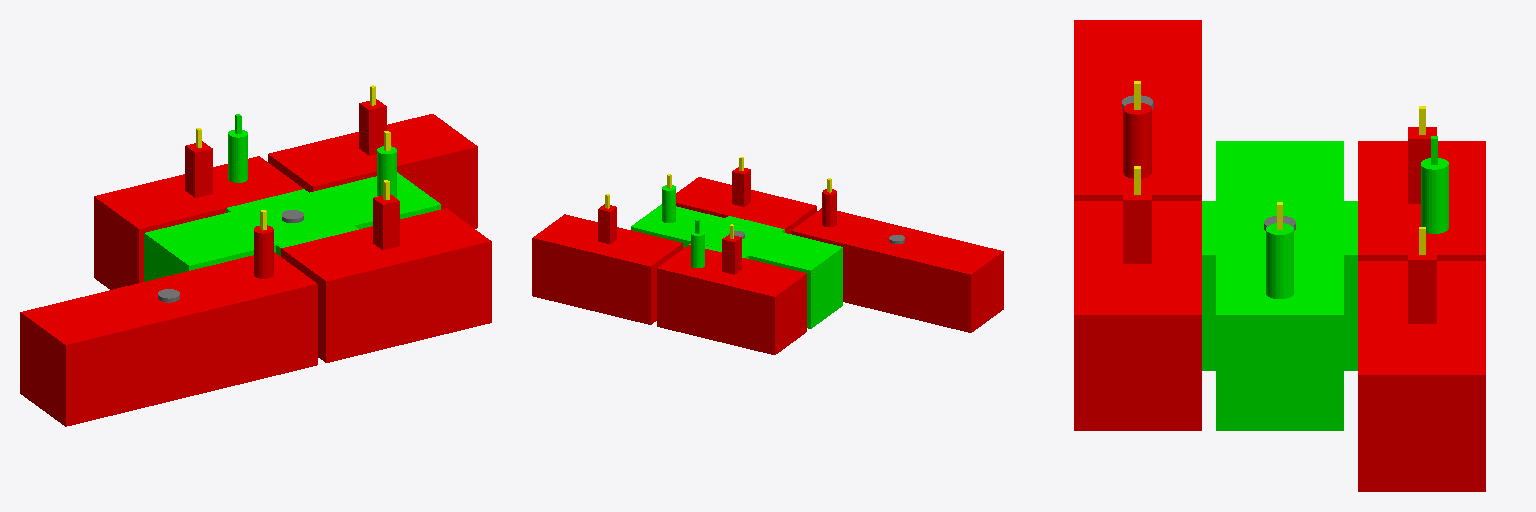
The robot description file, URDF, robot "grid_world0":
<?xml version="1.0"?>
<!-- created with Phobos 1.0.1 "Capricious Choutengan" -->
  <robot name="grid_world0">

    <link name="base_link">
    </link>

    <link name="goal">
      <visual name="visual_box_0_link_0.001">
        <origin xyz="0 0 0" rpy="0 0 0"/>
        <geometry>
          <box size="2.8961 0.8981 0.8981"/>
        </geometry>
        <material name="green_translucent"/>
      </visual>
    </link>

    <link name="link_0_joint_0">
      <visual name="visual_box_0_link_0">
        <origin xyz="0 0 0" rpy="0 0 0"/>
        <geometry>
          <box size="2.899 0.899 0.899"/>
        </geometry>
        <material name="green"/>
      </visual>
      <collision name="collision_box_0_link_0">
        <origin xyz="0 0 0" rpy="0 0 0"/>
        <geometry>
          <box size="2.899 0.899 0.899"/>
        </geometry>
      </collision>
    </link>

    <link name="link_1_joint_0">
      <visual name="visual_box_4_link_1">
        <origin xyz="0 0 0" rpy="0 0 0"/>
        <geometry>
          <box size="1.899 0.899 0.899"/>
        </geometry>
        <material name="red"/>
      </visual>
      <collision name="collision_box_4_link_1">
        <origin xyz="0 0 0" rpy="0 0 0"/>
        <geometry>
          <box size="1.899 0.899 0.899"/>
        </geometry>
      </collision>
    </link>

    <link name="link_2_joint_0">
      <visual name="visual_box_7_link_2">
        <origin xyz="0 0 0" rpy="0 0 0"/>
        <geometry>
          <box size="2.899 0.899 0.899"/>
        </geometry>
        <material name="red"/>
      </visual>
      <collision name="collision_box_7_link_2">
        <origin xyz="0 0 0" rpy="0 0 0"/>
        <geometry>
          <box size="2.899 0.899 0.899"/>
        </geometry>
      </collision>
    </link>

    <link name="link_3_joint_0">
      <visual name="visual_box_11_link_3">
        <origin xyz="0 0 0" rpy="0 0 0"/>
        <geometry>
          <box size="1.899 0.899 0.899"/>
        </geometry>
        <material name="red"/>
      </visual>
      <collision name="collision_box_11_link_3">
        <origin xyz="0 0 0" rpy="0 0 0"/>
        <geometry>
          <box size="1.899 0.899 0.899"/>
        </geometry>
      </collision>
    </link>

    <link name="link_4_joint_0">
      <visual name="visual_box_14_link_4">
        <origin xyz="0 0 0" rpy="0 0 0"/>
        <geometry>
          <box size="1.899 0.899 0.899"/>
        </geometry>
        <material name="red"/>
      </visual>
      <collision name="collision_box_14_link_4">
        <origin xyz="0 0 0" rpy="0 0 0"/>
        <geometry>
          <box size="1.899 0.899 0.899"/>
        </geometry>
      </collision>
    </link>

    <link name="link_fixed_10_handle_knob">
      <visual name="visual_box_fixed_10_handle_knob">
        <origin xyz="0 0 0" rpy="0 0 0"/>
        <geometry>
          <box size="0.049 0.049 0.199"/>
        </geometry>
        <material name="yellow"/>
      </visual>
      <collision name="collision_box_fixed_10_handle_knob">
        <origin xyz="0 0 0" rpy="0 0 0"/>
        <geometry>
          <box size="0.049 0.049 0.199"/>
        </geometry>
      </collision>
    </link>

    <link name="link_fixed_12_handle_shaft">
      <visual name="visual_box_fixed_12_handle_shaft">
        <origin xyz="0 0 0" rpy="0 0 0"/>
        <geometry>
          <box size="0.199 0.199 0.499"/>
        </geometry>
        <material name="red"/>
      </visual>
      <collision name="collision_box_fixed_12_handle_shaft">
        <origin xyz="0 0 0" rpy="0 0 0"/>
        <geometry>
          <box size="0.199 0.199 0.499"/>
        </geometry>
      </collision>
    </link>

    <link name="link_fixed_13_handle_knob">
      <visual name="visual_box_fixed_13_handle_knob">
        <origin xyz="0 0 0" rpy="0 0 0"/>
        <geometry>
          <box size="0.049 0.049 0.199"/>
        </geometry>
        <material name="yellow"/>
      </visual>
      <collision name="collision_box_fixed_13_handle_knob">
        <origin xyz="0 0 0" rpy="0 0 0"/>
        <geometry>
          <box size="0.049 0.049 0.199"/>
        </geometry>
      </collision>
    </link>

    <link name="link_fixed_15_handle_shaft">
      <visual name="visual_box_fixed_15_handle_shaft">
        <origin xyz="0 0 0" rpy="0 0 0"/>
        <geometry>
          <box size="0.199 0.199 0.499"/>
        </geometry>
        <material name="red"/>
      </visual>
      <collision name="collision_box_fixed_15_handle_shaft">
        <origin xyz="0 0 0" rpy="0 0 0"/>
        <geometry>
          <box size="0.199 0.199 0.499"/>
        </geometry>
      </collision>
    </link>

    <link name="link_fixed_16_handle_knob">
      <visual name="visual_box_fixed_16_handle_knob">
        <origin xyz="0 0 0" rpy="0 0 0"/>
        <geometry>
          <box size="0.049 0.049 0.199"/>
        </geometry>
        <material name="yellow"/>
      </visual>
      <collision name="collision_box_fixed_16_handle_knob">
        <origin xyz="0 0 0" rpy="0 0 0"/>
        <geometry>
          <box size="0.049 0.049 0.199"/>
        </geometry>
      </collision>
    </link>

    <link name="link_fixed_1_hinge">
      <visual name="visual_cylinder_fixed_1_hinge">
        <origin xyz="0 0 0" rpy="0 0 0"/>
        <geometry>
          <cylinder radius="0.112" length="0.989"/>
        </geometry>
        <material name="gray"/>
      </visual>
    </link>

    <link name="link_fixed_1_hinge.001">
      <visual name="visual_cylinder_fixed_1_hinge.001">
        <origin xyz="0 0 0" rpy="0 0 0"/>
        <geometry>
          <cylinder radius="0.11189" length="0.98801"/>
        </geometry>
        <material name="green_translucent"/>
      </visual>
    </link>

    <link name="link_fixed_2_handle_shaft">
      <visual name="visual_cylinder_fixed_2_handle_shaft">
        <origin xyz="0 0 0" rpy="0 0 0"/>
        <geometry>
          <cylinder radius="0.0995" length="0.499"/>
        </geometry>
        <material name="green"/>
      </visual>
      <collision name="collision_cylinder_fixed_2_handle_shaft">
        <origin xyz="0 0 0" rpy="0 0 0"/>
        <geometry>
          <cylinder radius="0.0995" length="0.499"/>
        </geometry>
      </collision>
    </link>

    <link name="link_fixed_2_handle_shaft.001">
      <visual name="visual_cylinder_fixed_2_handle_shaft.001">
        <origin xyz="0 0 0" rpy="0 0 0"/>
        <geometry>
          <cylinder radius="0.0994" length="0.4985"/>
        </geometry>
        <material name="green_translucent"/>
      </visual>
    </link>

    <link name="link_fixed_3_handle_knob">
      <visual name="visual_box_fixed_3_handle_knob">
        <origin xyz="0 0 0" rpy="0 0 0"/>
        <geometry>
          <box size="0.049 0.049 0.199"/>
        </geometry>
        <material name="yellow"/>
      </visual>
      <collision name="collision_box_fixed_3_handle_knob">
        <origin xyz="0 0 0" rpy="0 0 0"/>
        <geometry>
          <box size="0.049 0.049 0.199"/>
        </geometry>
      </collision>
    </link>

    <link name="link_fixed_3_handle_knob.001">
      <visual name="visual_box_fixed_3_handle_knob.001">
        <origin xyz="0 0 0" rpy="0 0 0"/>
        <geometry>
          <box size="0.04895 0.04895 0.1988"/>
        </geometry>
        <material name="green_translucent"/>
      </visual>
    </link>

    <link name="link_fixed_5_handle_shaft">
      <visual name="visual_box_fixed_5_handle_shaft">
        <origin xyz="0 0 0" rpy="0 0 0"/>
        <geometry>
          <box size="0.199 0.199 0.499"/>
        </geometry>
        <material name="red"/>
      </visual>
      <collision name="collision_box_fixed_5_handle_shaft">
        <origin xyz="0 0 0" rpy="0 0 0"/>
        <geometry>
          <box size="0.199 0.199 0.499"/>
        </geometry>
      </collision>
    </link>

    <link name="link_fixed_6_handle_knob">
      <visual name="visual_box_fixed_6_handle_knob">
        <origin xyz="0 0 0" rpy="0 0 0"/>
        <geometry>
          <box size="0.049 0.049 0.199"/>
        </geometry>
        <material name="yellow"/>
      </visual>
      <collision name="collision_box_fixed_6_handle_knob">
        <origin xyz="0 0 0" rpy="0 0 0"/>
        <geometry>
          <box size="0.049 0.049 0.199"/>
        </geometry>
      </collision>
    </link>

    <link name="link_fixed_8_hinge">
      <visual name="visual_cylinder_fixed_8_hinge">
        <origin xyz="0 0 0" rpy="0 0 0"/>
        <geometry>
          <cylinder radius="0.112" length="0.989"/>
        </geometry>
        <material name="gray"/>
      </visual>
    </link>

    <link name="link_fixed_9_handle_shaft">
      <visual name="visual_cylinder_fixed_9_handle_shaft">
        <origin xyz="0 0 0" rpy="0 0 0"/>
        <geometry>
          <cylinder radius="0.0995" length="0.499"/>
        </geometry>
        <material name="red"/>
      </visual>
      <collision name="collision_cylinder_fixed_9_handle_shaft">
        <origin xyz="0 0 0" rpy="0 0 0"/>
        <geometry>
          <cylinder radius="0.0995" length="0.499"/>
        </geometry>
      </collision>
    </link>

    <joint name="goal" type="fixed">
      <origin xyz="-0.5 0.5 0.45" rpy="0 0 1.5708"/>
      <parent link="base_link"/>
      <child link="goal"/>
      <limit effort="0" velocity="0"/>
    </joint>

    <joint name="link_0_joint_0" type="revolute">
      <origin xyz="-0.5 0.5 0.45" rpy="0 0 0"/>
      <parent link="base_link"/>
      <child link="link_0_joint_0"/>
      <axis xyz="0 0 1.0"/>
      <limit lower="0" upper="1.5708" effort="0" velocity="0"/>
    </joint>

    <joint name="link_1_joint_0" type="prismatic">
      <origin xyz="-1.0 1.5 0.45" rpy="0 0 3.14159"/>
      <parent link="base_link"/>
      <child link="link_1_joint_0"/>
      <axis xyz="1.0 0 0"/>
      <limit lower="0" upper="1.0" effort="0" velocity="0"/>
    </joint>

    <joint name="link_2_joint_0" type="revolute">
      <origin xyz="-2.5 -0.5 0.45" rpy="0 0 0"/>
      <parent link="base_link"/>
      <child link="link_2_joint_0"/>
      <axis xyz="0 0 1.0"/>
      <limit lower="-1.5708" upper="0" effort="0" velocity="0"/>
    </joint>

    <joint name="link_3_joint_0" type="prismatic">
      <origin xyz="1.0 1.5 0.45" rpy="0 0 0"/>
      <parent link="base_link"/>
      <child link="link_3_joint_0"/>
      <axis xyz="1.0 0 0"/>
      <limit lower="0" upper="1.0" effort="0" velocity="0"/>
    </joint>

    <joint name="link_4_joint_0" type="prismatic">
      <origin xyz="0 -0.5 0.45" rpy="0 0 0"/>
      <parent link="base_link"/>
      <child link="link_4_joint_0"/>
      <axis xyz="1.0 0 0"/>
      <limit lower="0" upper="1.0" effort="0" velocity="0"/>
    </joint>

    <joint name="link_fixed_10_handle_knob" type="fixed">
      <origin xyz="0 0 0.35" rpy="0 0 0"/>
      <parent link="link_fixed_9_handle_shaft"/>
      <child link="link_fixed_10_handle_knob"/>
    </joint>

    <joint name="link_fixed_12_handle_shaft" type="fixed">
      <origin xyz="0 0 0.7" rpy="0 0 0"/>
      <parent link="link_3_joint_0"/>
      <child link="link_fixed_12_handle_shaft"/>
    </joint>

    <joint name="link_fixed_13_handle_knob" type="fixed">
      <origin xyz="0 0 0.35" rpy="0 0 0"/>
      <parent link="link_fixed_12_handle_shaft"/>
      <child link="link_fixed_13_handle_knob"/>
    </joint>

    <joint name="link_fixed_15_handle_shaft" type="fixed">
      <origin xyz="0 0 0.7" rpy="0 0 0"/>
      <parent link="link_4_joint_0"/>
      <child link="link_fixed_15_handle_shaft"/>
    </joint>

    <joint name="link_fixed_16_handle_knob" type="fixed">
      <origin xyz="0 0 0.35" rpy="0 0 0"/>
      <parent link="link_fixed_15_handle_shaft"/>
      <child link="link_fixed_16_handle_knob"/>
    </joint>

    <joint name="link_fixed_1_hinge" type="fixed">
      <origin xyz="0 0 0" rpy="0 0 0"/>
      <parent link="link_0_joint_0"/>
      <child link="link_fixed_1_hinge"/>
    </joint>

    <joint name="link_fixed_1_hinge.001" type="fixed">
      <origin xyz="0 0 0" rpy="0 0 0"/>
      <parent link="goal"/>
      <child link="link_fixed_1_hinge.001"/>
    </joint>

    <joint name="link_fixed_2_handle_shaft" type="fixed">
      <origin xyz="1.0875 0 0.7" rpy="0 0 0"/>
      <parent link="link_0_joint_0"/>
      <child link="link_fixed_2_handle_shaft"/>
    </joint>

    <joint name="link_fixed_2_handle_shaft.001" type="fixed">
      <origin xyz="1.08641 0 0.6993" rpy="0 0 0"/>
      <parent link="goal"/>
      <child link="link_fixed_2_handle_shaft.001"/>
    </joint>

    <joint name="link_fixed_3_handle_knob" type="fixed">
      <origin xyz="0 0 0.35" rpy="0 0 0"/>
      <parent link="link_fixed_2_handle_shaft"/>
      <child link="link_fixed_3_handle_knob"/>
    </joint>

    <joint name="link_fixed_3_handle_knob.001" type="fixed">
      <origin xyz="0 0 0.34965" rpy="0 0 0"/>
      <parent link="link_fixed_2_handle_shaft.001"/>
      <child link="link_fixed_3_handle_knob.001"/>
    </joint>

    <joint name="link_fixed_5_handle_shaft" type="fixed">
      <origin xyz="0 0 0.7" rpy="0 0 0"/>
      <parent link="link_1_joint_0"/>
      <child link="link_fixed_5_handle_shaft"/>
    </joint>

    <joint name="link_fixed_6_handle_knob" type="fixed">
      <origin xyz="0 0 0.35" rpy="0 0 0"/>
      <parent link="link_fixed_5_handle_shaft"/>
      <child link="link_fixed_6_handle_knob"/>
    </joint>

    <joint name="link_fixed_8_hinge" type="fixed">
      <origin xyz="0 0 0" rpy="0 0 0"/>
      <parent link="link_2_joint_0"/>
      <child link="link_fixed_8_hinge"/>
    </joint>

    <joint name="link_fixed_9_handle_shaft" type="fixed">
      <origin xyz="1.0875 0 0.7" rpy="0 0 0"/>
      <parent link="link_2_joint_0"/>
      <child link="link_fixed_9_handle_shaft"/>
    </joint>

    <material name="gray">
      <color rgba="0.5 0.5 0.5 1.0"/>
    </material>

    <material name="green">
      <color rgba="0 1.0 0 1.0"/>
    </material>

    <material name="green_translucent">
      <color rgba="0 1.0 0 0.25"/>
    </material>

    <material name="red">
      <color rgba="1.0 0 0 1.0"/>
    </material>

    <material name="yellow">
      <color rgba="1.0 1.0 0 1.0"/>
    </material>

  </robot>

--- Render facts (derived) ---
3 views of the same robot in one strip: view 1: azimuth 30°, elevation 25°; view 2: azimuth 150°, elevation 25°; view 3: azimuth 270°, elevation 25° (orthographic).
Robot: grid_world0 — 22 links, 21 joints (2 revolute, 3 prismatic, 16 fixed); root link base_link; default pose: every joint at zero.
Visible links, largest first — view 1: link_2_joint_0, link_4_joint_0, link_0_joint_0, link_3_joint_0, link_1_joint_0, link_fixed_5_handle_shaft, link_fixed_15_handle_shaft, link_fixed_12_handle_shaft, link_fixed_2_handle_shaft.001, link_fixed_9_handle_shaft, link_fixed_2_handle_shaft, goal; view 2: link_2_joint_0, link_1_joint_0, link_3_joint_0, link_0_joint_0, link_4_joint_0, link_fixed_5_handle_shaft, link_fixed_12_handle_shaft, link_fixed_15_handle_shaft, link_fixed_9_handle_shaft; view 3: link_0_joint_0, link_3_joint_0, link_4_joint_0, link_2_joint_0, link_1_joint_0, goal, link_fixed_12_handle_shaft, link_fixed_15_handle_shaft, link_fixed_2_handle_shaft, link_fixed_2_handle_shaft.001, link_fixed_9_handle_shaft, link_fixed_5_handle_shaft.
Boxes of the visible links, bbox=[...] form: link_2_joint_0: bbox=[20, 252, 317, 426]; link_4_joint_0: bbox=[281, 208, 491, 362]; link_0_joint_0: bbox=[144, 172, 440, 281]; link_3_joint_0: bbox=[268, 114, 477, 228]; link_1_joint_0: bbox=[94, 156, 303, 289]; link_fixed_5_handle_shaft: bbox=[185, 141, 212, 197]; link_fixed_15_handle_shaft: bbox=[373, 194, 399, 249]; link_fixed_12_handle_shaft: bbox=[359, 99, 386, 155]; link_fixed_2_handle_shaft.001: bbox=[228, 130, 247, 182]; link_fixed_9_handle_shaft: bbox=[254, 225, 273, 278]; link_fixed_2_handle_shaft: bbox=[377, 146, 396, 197]; goal: bbox=[226, 189, 358, 255]; link_2_joint_0: bbox=[791, 208, 1003, 332]; link_1_joint_0: bbox=[657, 245, 806, 354]; link_3_joint_0: bbox=[532, 214, 682, 324]; link_0_joint_0: bbox=[631, 204, 842, 328]; link_4_joint_0: bbox=[676, 177, 816, 233]; link_fixed_5_handle_shaft: bbox=[722, 234, 741, 274]; link_fixed_12_handle_shaft: bbox=[598, 204, 616, 243]; link_fixed_15_handle_shaft: bbox=[732, 167, 750, 206]; link_fixed_9_handle_shaft: bbox=[822, 189, 836, 226]; link_0_joint_0: bbox=[1216, 141, 1343, 430]; link_3_joint_0: bbox=[1358, 261, 1485, 491]; link_4_joint_0: bbox=[1074, 201, 1201, 430]; link_2_joint_0: bbox=[1074, 20, 1201, 200]; link_1_joint_0: bbox=[1358, 141, 1485, 260]; goal: bbox=[1202, 201, 1357, 370]; link_fixed_12_handle_shaft: bbox=[1408, 248, 1436, 323]; link_fixed_15_handle_shaft: bbox=[1123, 188, 1151, 263]; link_fixed_2_handle_shaft: bbox=[1266, 223, 1293, 298]; link_fixed_2_handle_shaft.001: bbox=[1421, 158, 1448, 233]; link_fixed_9_handle_shaft: bbox=[1123, 103, 1151, 178]; link_fixed_5_handle_shaft: bbox=[1408, 127, 1436, 203].
Bounding box of the posed robot: 5.9 × 2.9 × 1.64 m (x, y, z).
Geometry: primitives only (box / cylinder / sphere), no mesh files.